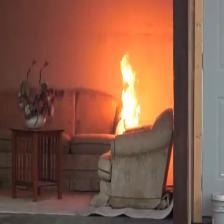fire: (114, 51, 143, 133)
